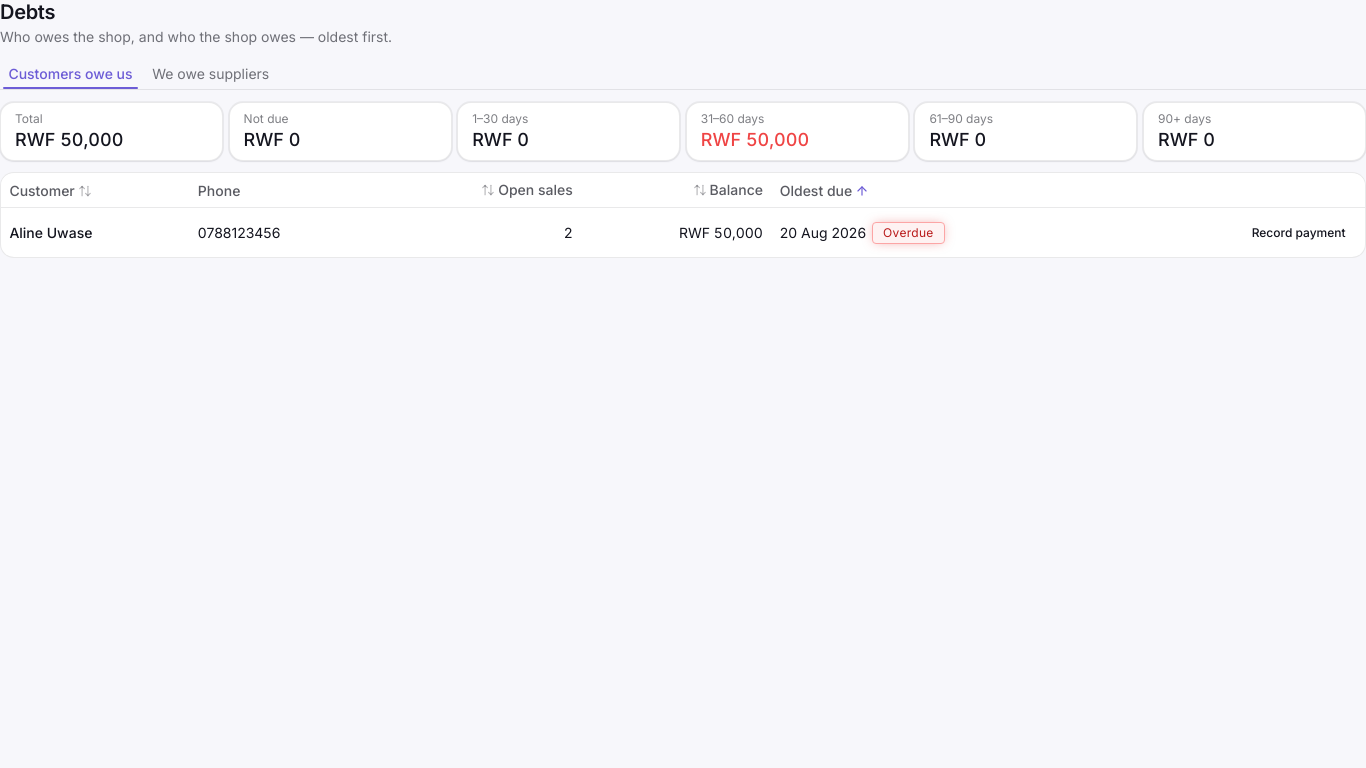
Test: DebtsPageClient › shows aging totals and overdue customers, and records a payment with a receipt
Expected: the link "Aline Uwase" is shown, [9,224,92,241]
Expected: the text "Overdue" is shown, [872,222,945,244]
Click the button "Record payment". click: {"x": 1299, "y": 233}
box: [1241,218,1357,247]
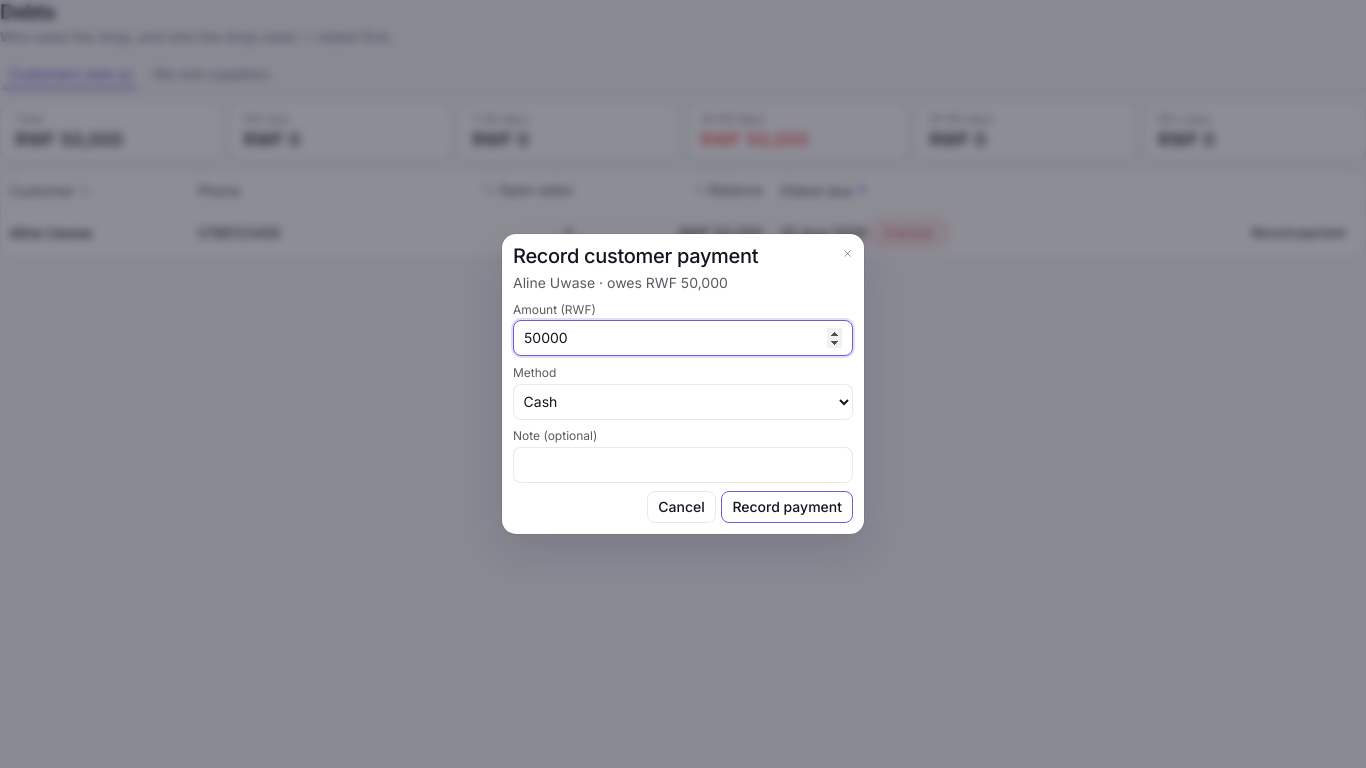
Click the button "Record payment". click: {"x": 787, "y": 507}
box: [721,491,853,523]
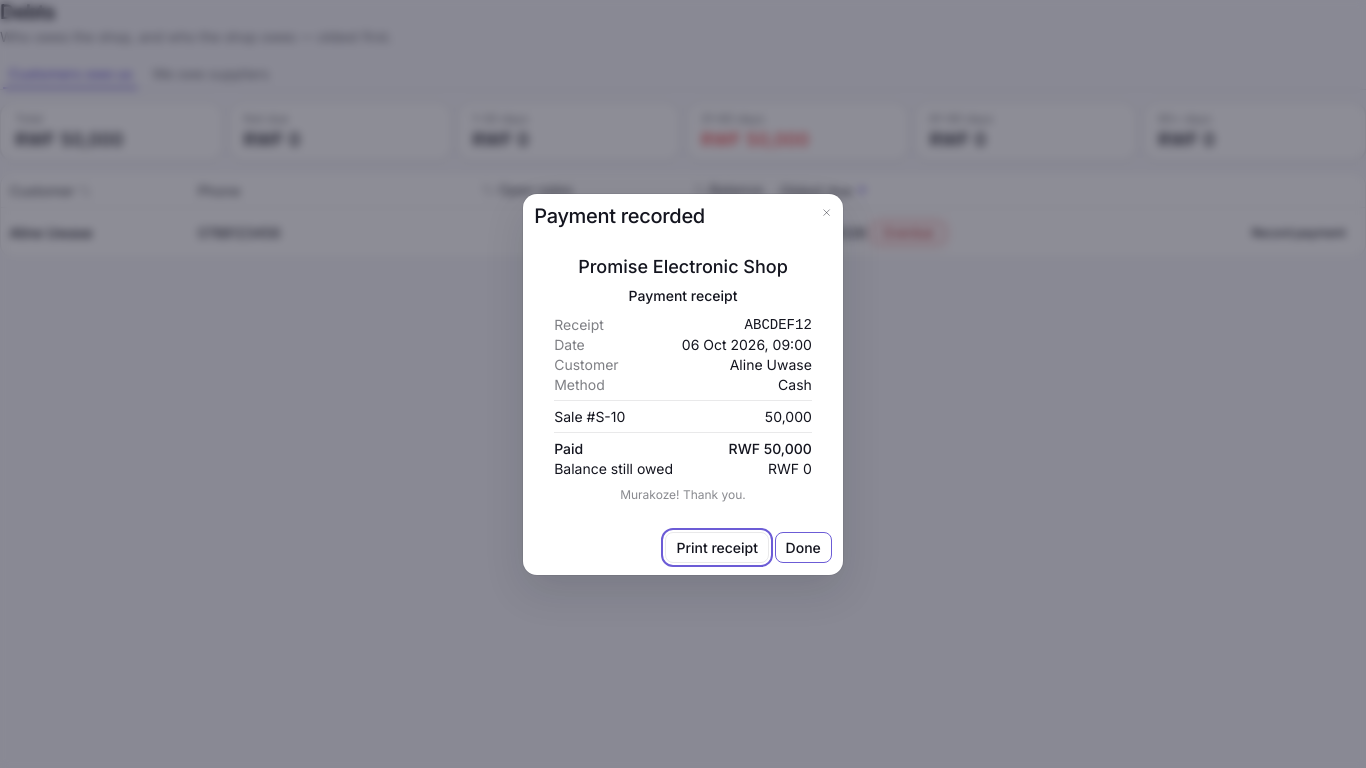
Expected: the text "Payment receipt" is shown, [628,287,737,304]
